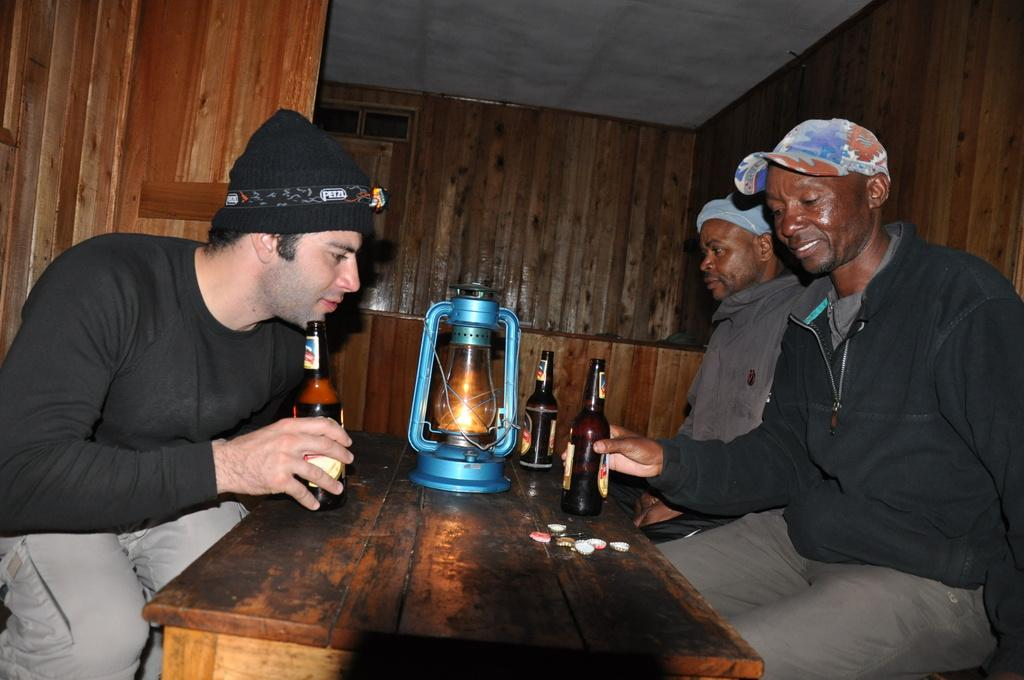Hat: (733, 115, 888, 198)
